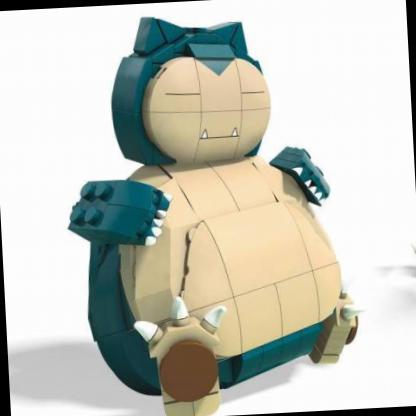Snorlax: (12, 1, 416, 413)
